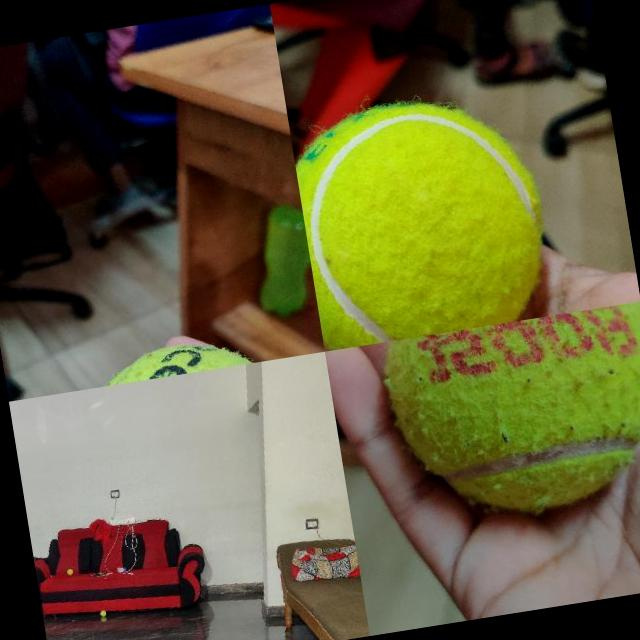Tennis Ball: (290, 84, 557, 350), (381, 301, 640, 530), (100, 610, 108, 617), (66, 568, 74, 574)
